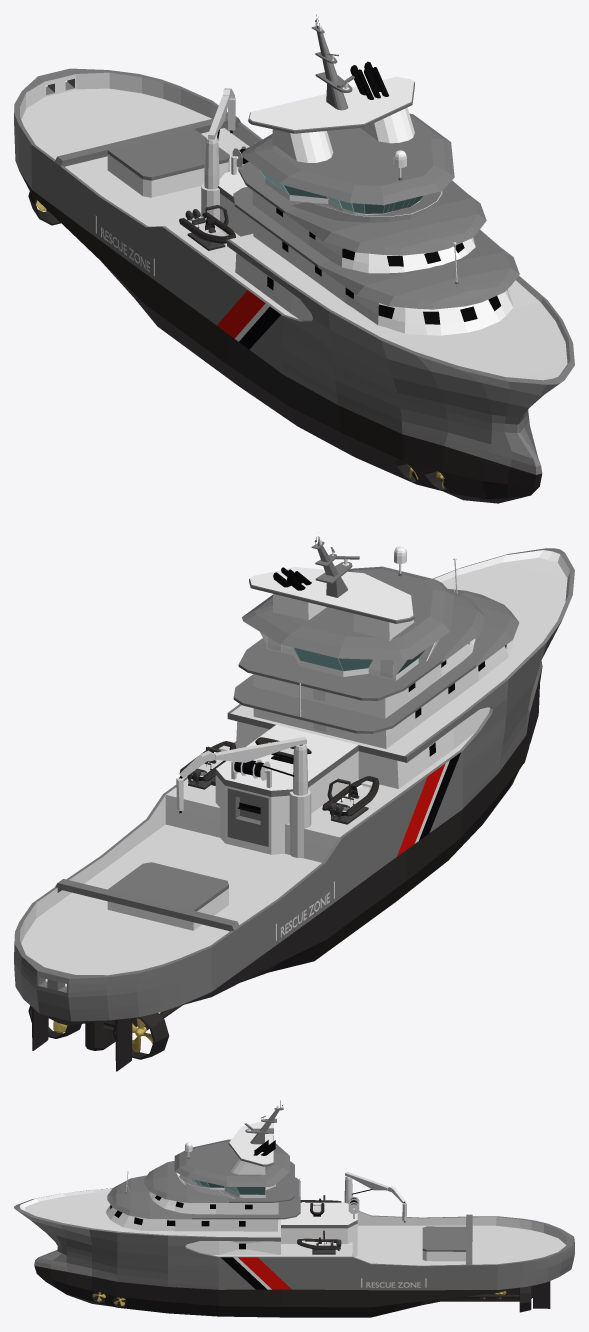
Rendered from GenericRescueShip.glb.
The picture shows the model from 3 angles, top to bottom: view 1: azimuth 30°, elevation 25°; view 2: azimuth 150°, elevation 25°; view 3: azimuth 270°, elevation 25°; orthographic projection. The views are drawn at different scales.
Parts seen in each view (by area): view 1: Cube.014; view 2: Cube.014; view 3: Cube.014.
Part boxes in pixels (bbox=[...]): Cube.014: bbox=[14, 14, 574, 503]; Cube.014: bbox=[14, 536, 574, 1071]; Cube.014: bbox=[14, 1100, 574, 1317].
Size of the model in its own units: 8.7 by 16.46 by 42.
